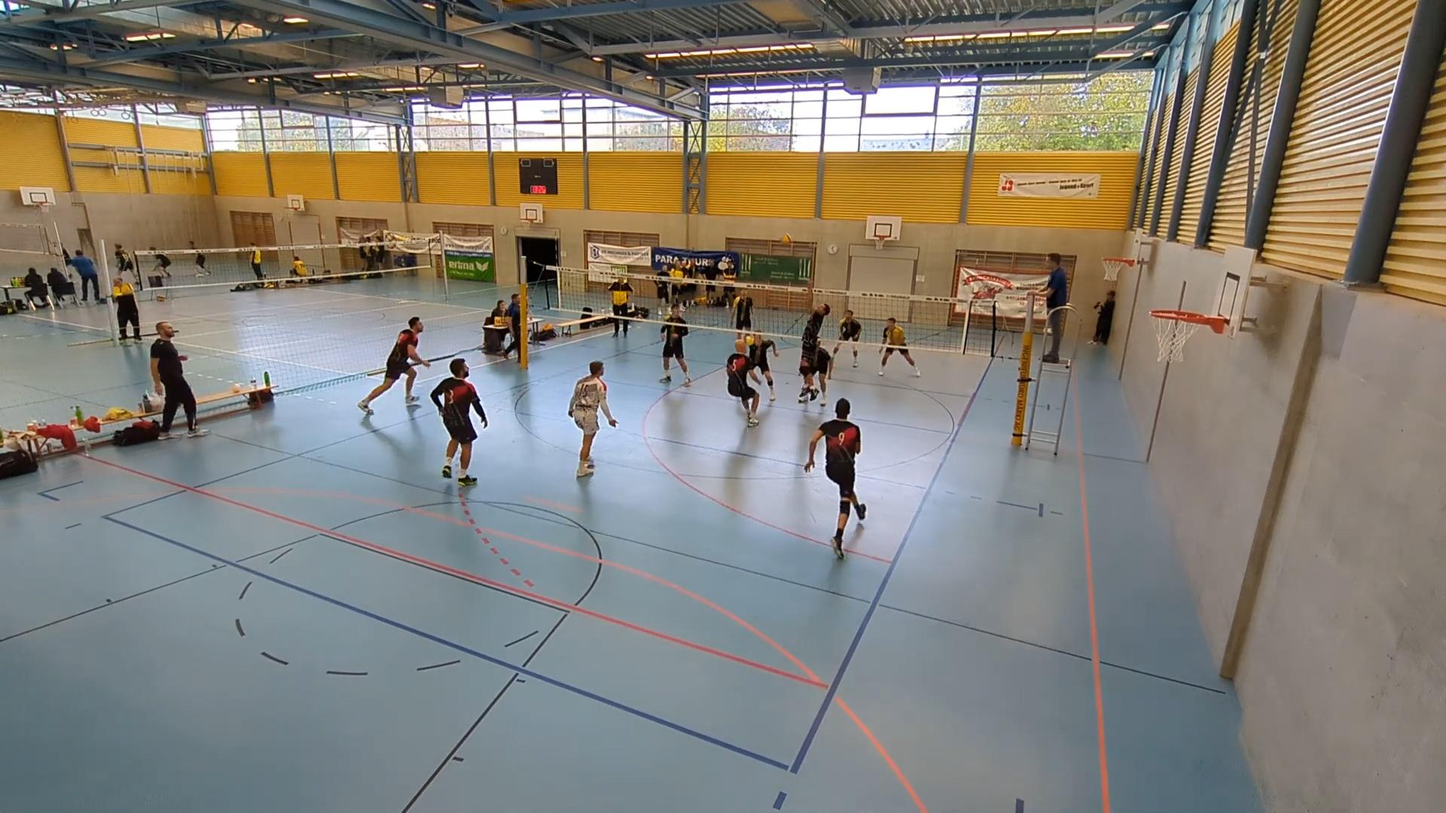Player: (804, 398, 866, 559), (430, 358, 487, 486), (357, 316, 429, 414), (568, 361, 617, 477), (725, 339, 759, 427), (660, 304, 691, 386), (878, 318, 920, 376), (746, 333, 779, 400), (832, 309, 862, 367), (814, 346, 833, 405), (731, 292, 753, 337)
Set: (794, 294, 839, 409)
ball: (780, 235, 797, 244)
